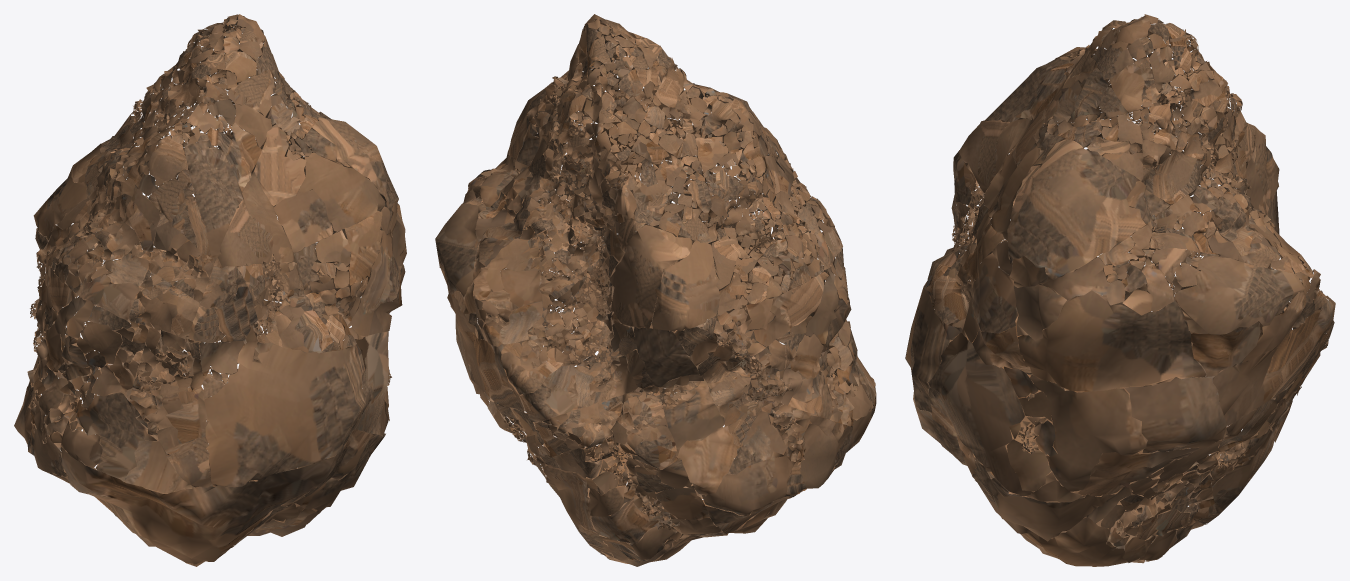
File: SM_MossyBoulder_BlenderOptimized.fbx
3 renders of one model, left to right at view 1: azimuth 30°, elevation 25°; view 2: azimuth 150°, elevation 25°; view 3: azimuth 270°, elevation 25°, orthographic. The views are drawn at different scales.
Parts seen in each view (by area): view 1: Mesh_0; view 2: Mesh_0; view 3: Mesh_0.
Boxes of the visible parts, x1,y1,x2,y2 form: Mesh_0: [14, 14, 406, 566]; Mesh_0: [435, 14, 876, 566]; Mesh_0: [905, 14, 1335, 566].
Bounding box in the file's own units: 1.38 × 1.9 × 1.33.
